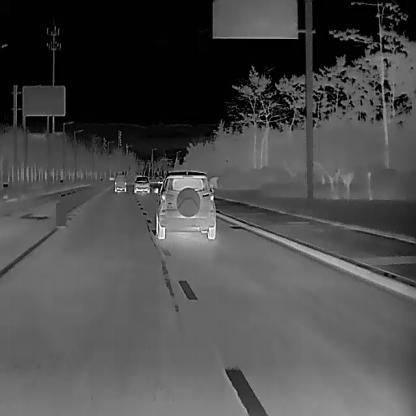car: (153, 170, 216, 239), (133, 177, 150, 193), (113, 174, 126, 191)
